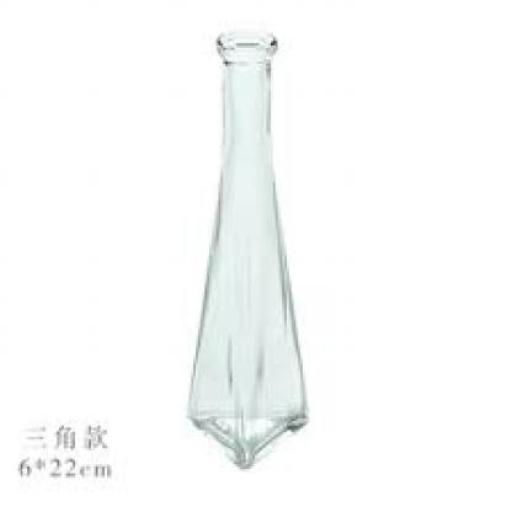glass: (186, 30, 304, 464)
